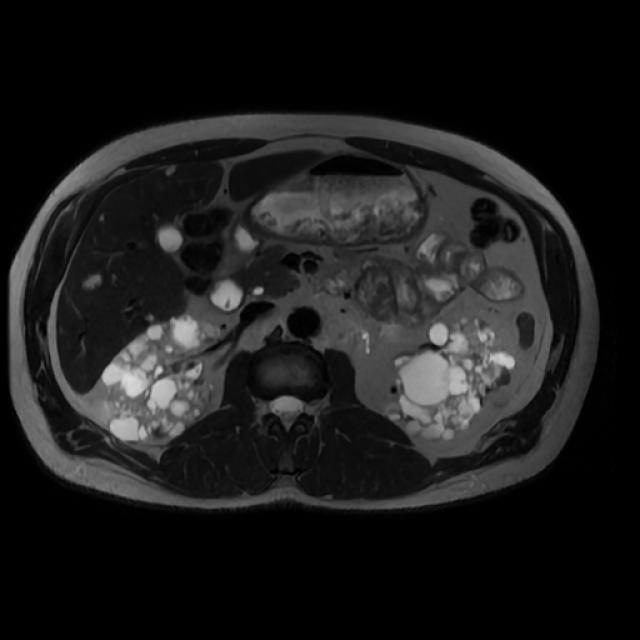sag: (99, 314, 228, 445)
sol: (383, 315, 516, 441)
